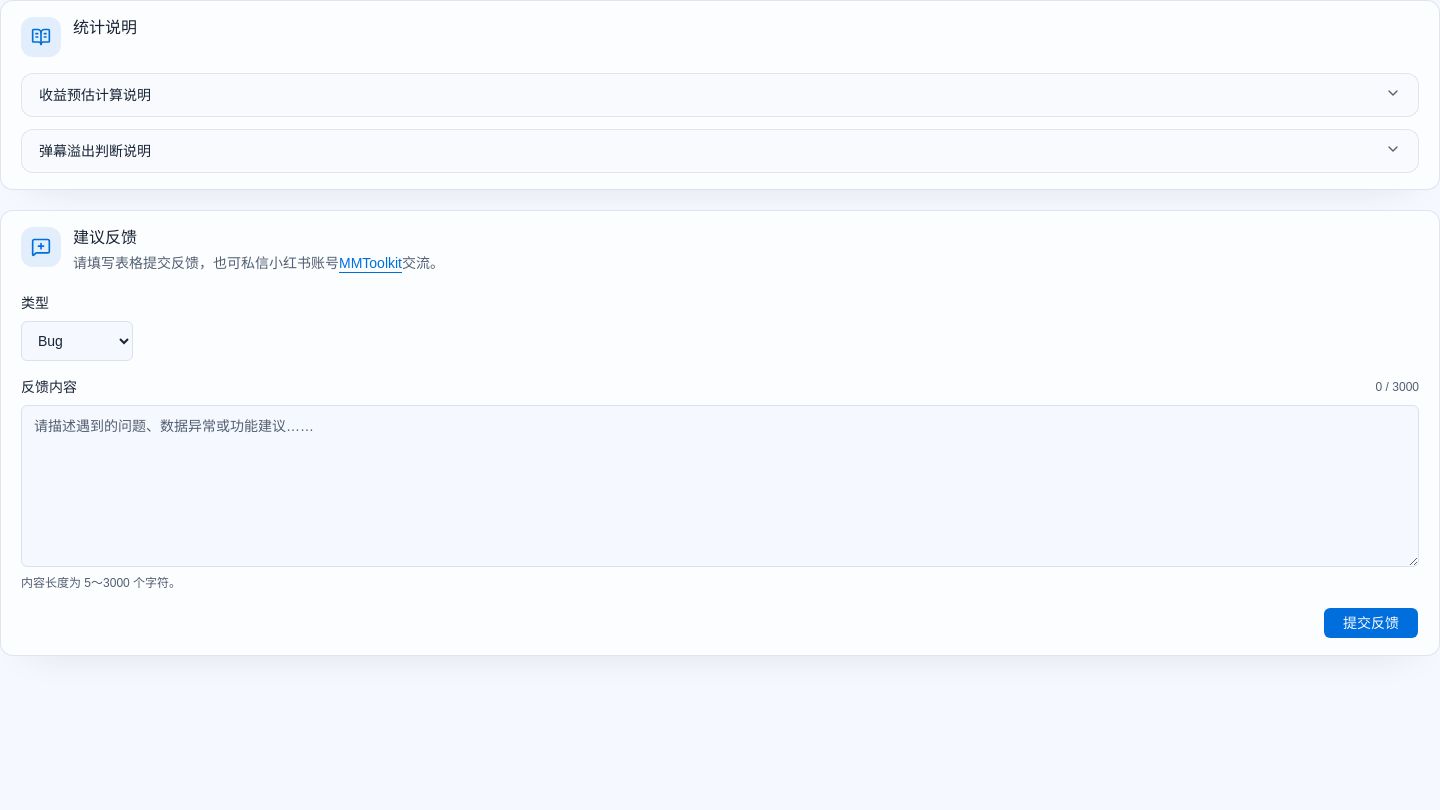
Test: server status 429 shows a safe feedback error
Type "这是一个足够长的测试反馈内容" into the text box labelled "反馈内容" at {"x": 720, "y": 486}, box [21,405,1419,567]
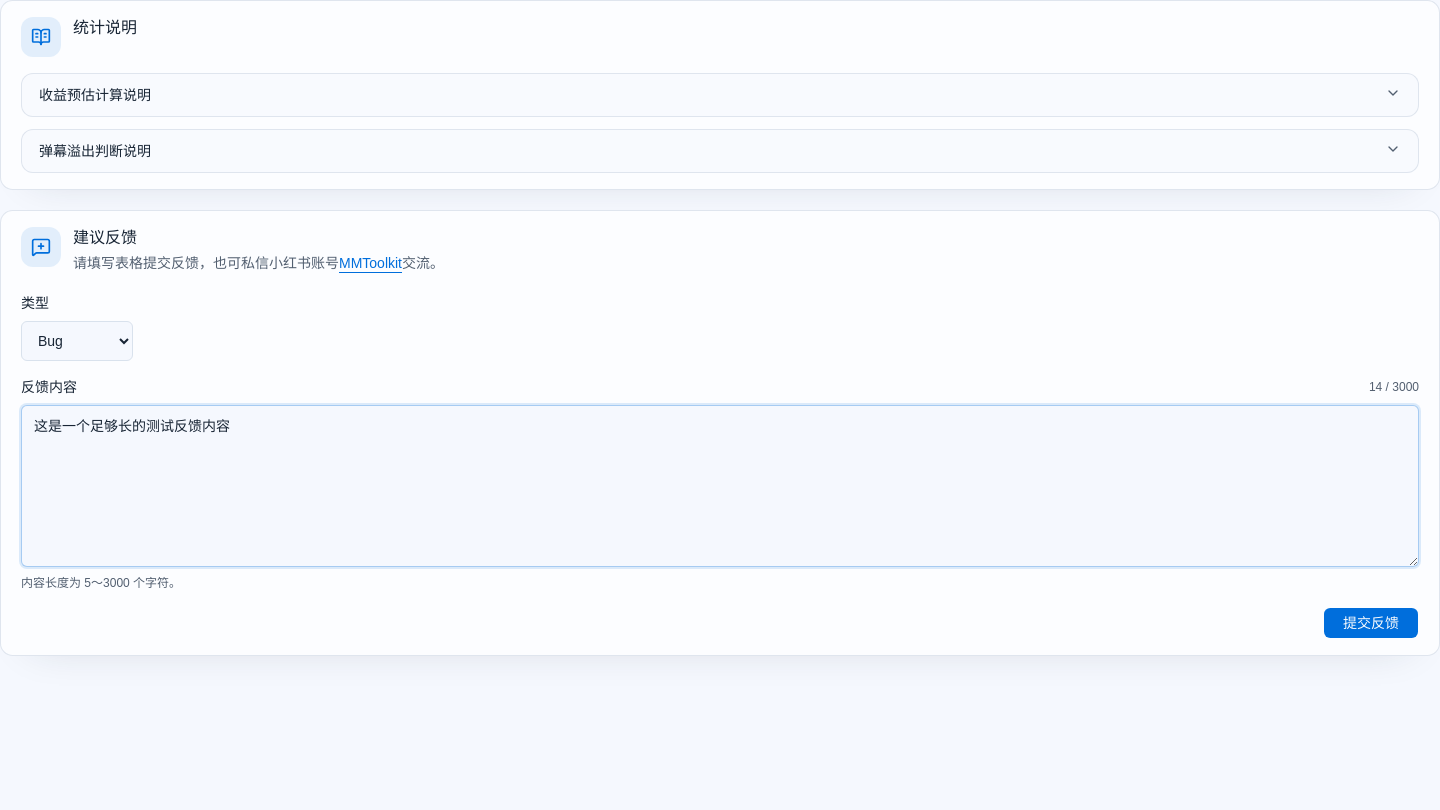
Click the button "提交反馈" at {"x": 1371, "y": 623}, box [1323,607,1419,639]
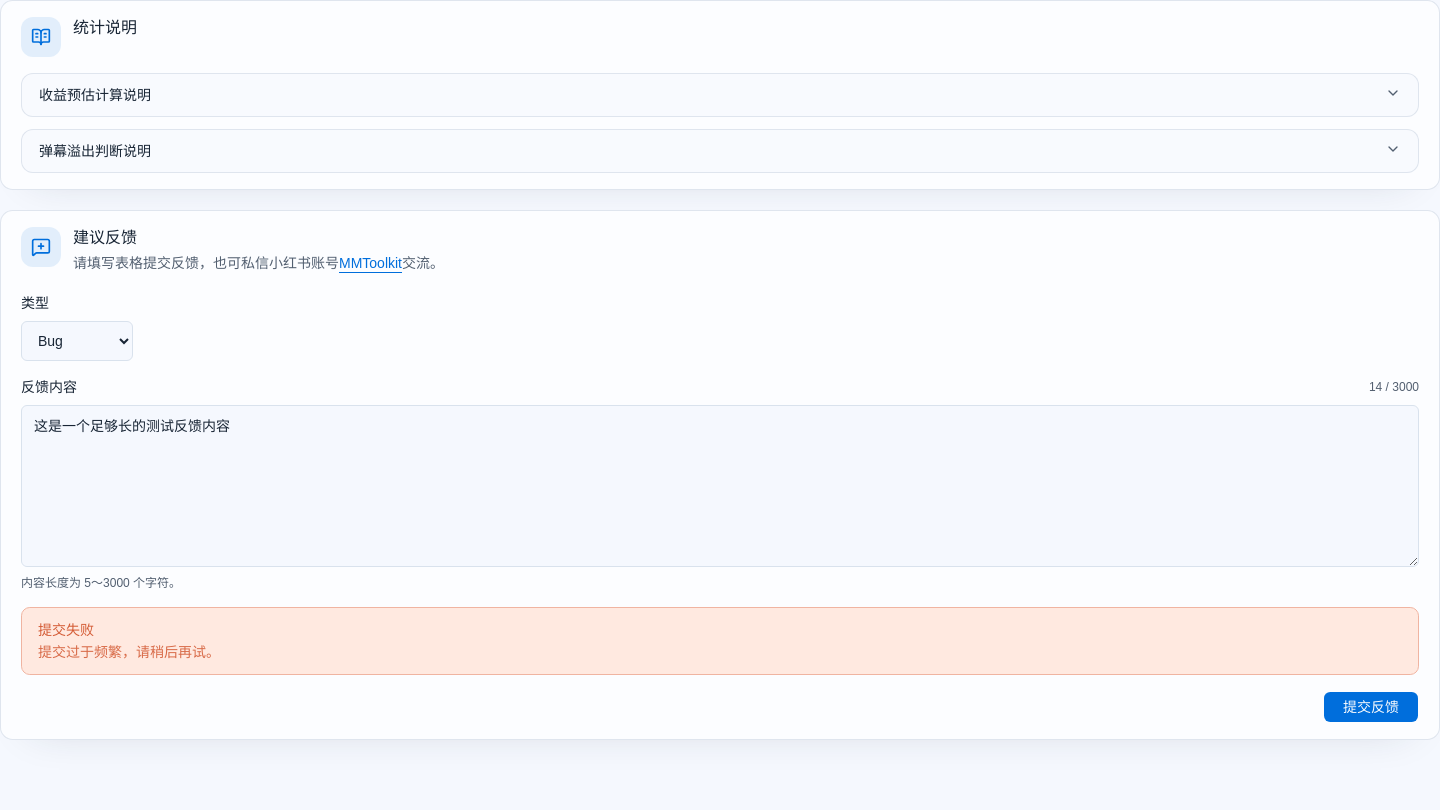
Check: the text "提交过于频繁，请稍后再试。" is shown, box [38,644,220,660]
